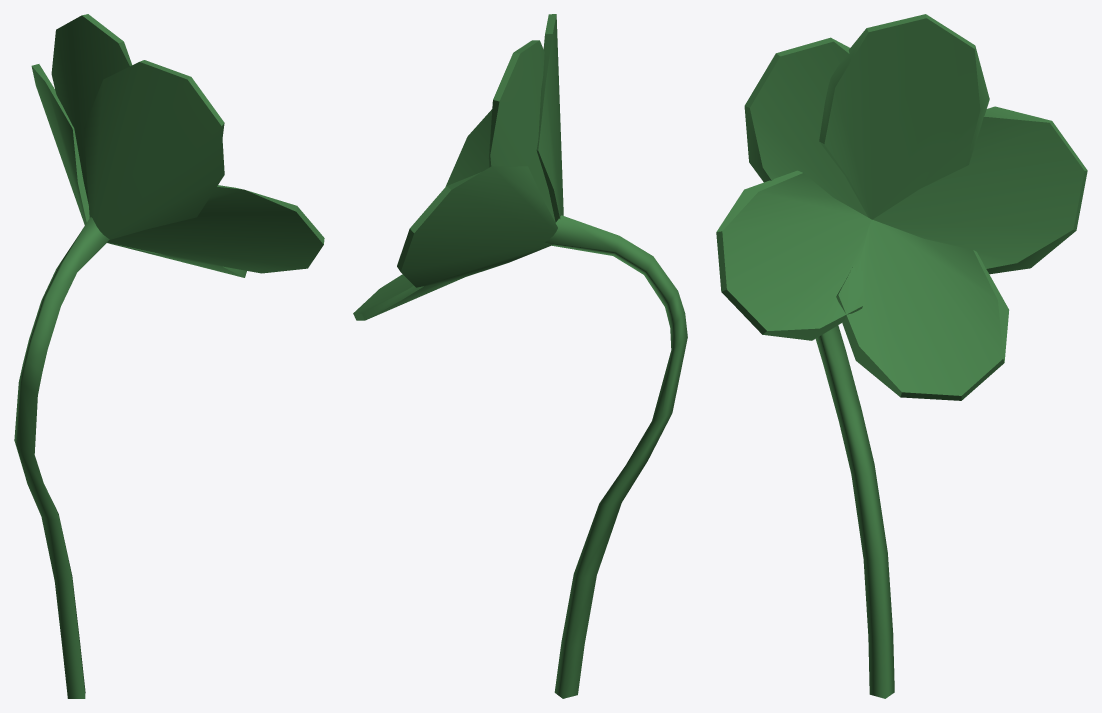
Rendered from flower 3.fbx.
3 renders of one model, left to right at view 1: azimuth 30°, elevation 25°; view 2: azimuth 150°, elevation 25°; view 3: azimuth 270°, elevation 25°, orthographic. The views are drawn at different scales.
Parts seen in each view (by area): view 1: polySurface519; view 2: polySurface519; view 3: polySurface519.
Part boxes in pixels (left/top/right/bottom): polySurface519: left=14, top=14, right=324, bottom=698; polySurface519: left=353, top=14, right=687, bottom=698; polySurface519: left=716, top=14, right=1087, bottom=698.
Size of the model in its own units: 0.9668 by 2.26 by 1.1.
